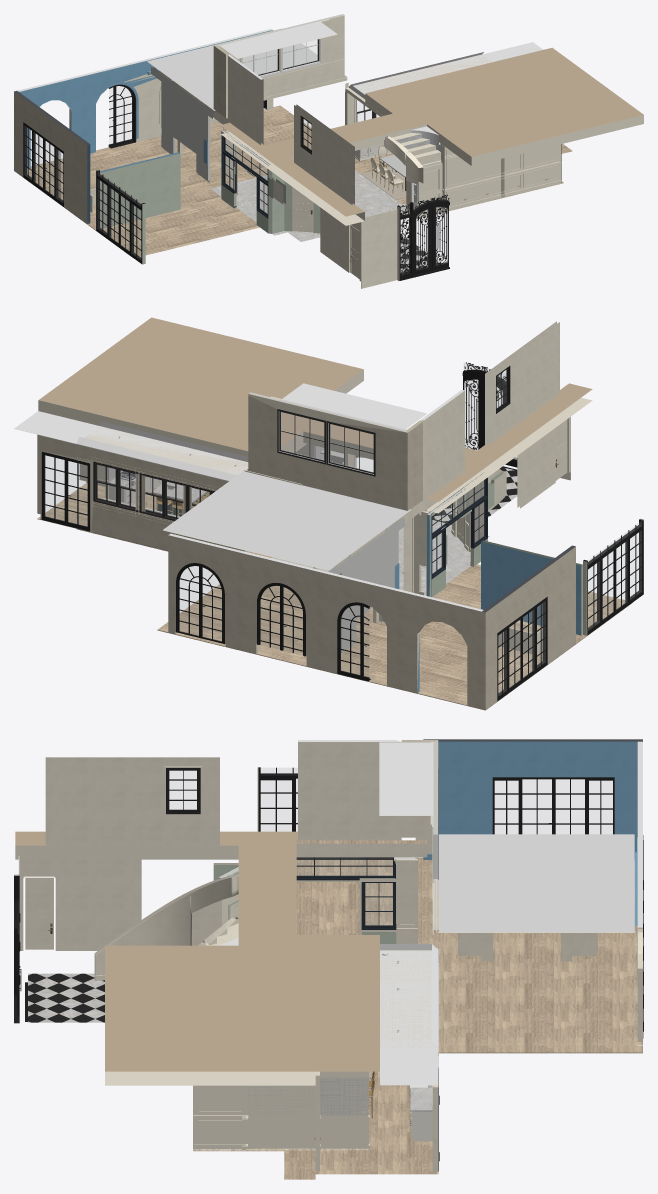
The model's file is kitchen-534adda0ab39.glb.
3 views of the same model, one above another, from view 1: azimuth 30°, elevation 25°; view 2: azimuth 150°, elevation 25°; view 3: azimuth 270°, elevation 25° (orthographic). The views are drawn at different scales.
Parts seen in each view (by area): view 1: kitchen-look-2575515a05775d9e, kitchen-look-3b0077416469e01b, kitchen-look-969b861f9850351e, kitchen-19647d6da46c2b80, kitchen-look-b19b106fc304963c, kitchen-look-039192b0560cfac3, kitchen-look-4a969f5cc1ae3dfe, kitchen-look-746250f96522f643, kitchen-look-55ff1dfd7b659ec1, kitchen-look-245f595ae2832e16, kitchen-look-d5a4a1b5d3594c04, kitchen-look-7f59123d155b94ce (+37 smaller); view 2: kitchen-look-2575515a05775d9e, kitchen-look-969b861f9850351e, kitchen-look-3b0077416469e01b, kitchen-look-4a969f5cc1ae3dfe, kitchen-look-245f595ae2832e16, kitchen-look-039192b0560cfac3, kitchen-look-746250f96522f643, kitchen-bfb9fa537cd11d1d, kitchen-49bdd6945a2d0056, kitchen-look-7f59123d155b94ce, kitchen-look-b19b106fc304963c, kitchen-look-55ff1dfd7b659ec1 (+40 smaller); view 3: kitchen-look-2575515a05775d9e, kitchen-look-3b0077416469e01b, kitchen-look-4a969f5cc1ae3dfe, kitchen-look-746250f96522f643, kitchen-look-039192b0560cfac3, kitchen-look-7f59123d155b94ce, kitchen-look-85f0fd939e0fcc78, kitchen-9a0e9ee9b2a451d7, kitchen-5b6bbac285e58726, kitchen-look-9d91b47435c6fb33, kitchen-look-c4ac463b6a960119, kitchen-49bdd6945a2d0056 (+29 smaller).
Boxes of the visible parts, box(x1,y1,x2,y2) form: kitchen-look-2575515a05775d9e: box(221, 47, 643, 225); kitchen-look-3b0077416469e01b: box(14, 105, 572, 257); kitchen-look-969b861f9850351e: box(17, 28, 273, 168); kitchen-19647d6da46c2b80: box(444, 144, 560, 207); kitchen-look-b19b106fc304963c: box(100, 152, 180, 228); kitchen-look-039192b0560cfac3: box(14, 91, 90, 223); kitchen-look-4a969f5cc1ae3dfe: box(147, 28, 346, 110); kitchen-look-746250f96522f643: box(294, 104, 354, 205); kitchen-look-55ff1dfd7b659ec1: box(151, 67, 214, 180); kitchen-look-245f595ae2832e16: box(213, 14, 344, 108); kitchen-look-d5a4a1b5d3594c04: box(361, 209, 397, 288); kitchen-look-7f59123d155b94ce: box(228, 54, 263, 144); kitchen-look-2575515a05775d9e: box(38, 317, 592, 513); kitchen-look-969b861f9850351e: box(168, 533, 483, 708); kitchen-look-3b0077416469e01b: box(37, 479, 632, 710); kitchen-look-4a969f5cc1ae3dfe: box(163, 471, 410, 570); kitchen-look-245f595ae2832e16: box(248, 392, 407, 510); kitchen-look-039192b0560cfac3: box(481, 545, 575, 709); kitchen-look-746250f96522f643: box(485, 321, 559, 445); kitchen-bfb9fa537cd11d1d: box(76, 444, 247, 551); kitchen-49bdd6945a2d0056: box(76, 421, 248, 480); kitchen-look-7f59123d155b94ce: box(419, 390, 464, 511); kitchen-look-b19b106fc304963c: box(481, 540, 582, 635); kitchen-look-55ff1dfd7b659ec1: box(328, 517, 404, 653); kitchen-look-2575515a05775d9e: box(15, 831, 379, 1085); kitchen-look-3b0077416469e01b: box(284, 857, 642, 1179); kitchen-look-4a969f5cc1ae3dfe: box(438, 834, 634, 932); kitchen-look-746250f96522f643: box(45, 757, 219, 845); kitchen-look-039192b0560cfac3: box(423, 739, 642, 859); kitchen-look-7f59123d155b94ce: box(298, 740, 401, 840); kitchen-look-85f0fd939e0fcc78: box(19, 859, 141, 950); kitchen-9a0e9ee9b2a451d7: box(380, 950, 438, 1047); kitchen-5b6bbac285e58726: box(247, 1085, 315, 1150); kitchen-look-9d91b47435c6fb33: box(379, 742, 432, 815); kitchen-look-c4ac463b6a960119: box(28, 973, 104, 1022); kitchen-49bdd6945a2d0056: box(380, 944, 438, 1047).
Size of the model in its own units: 20.84 by 6.36 by 16.8.
Materials: 71 (14 with a texture image).
